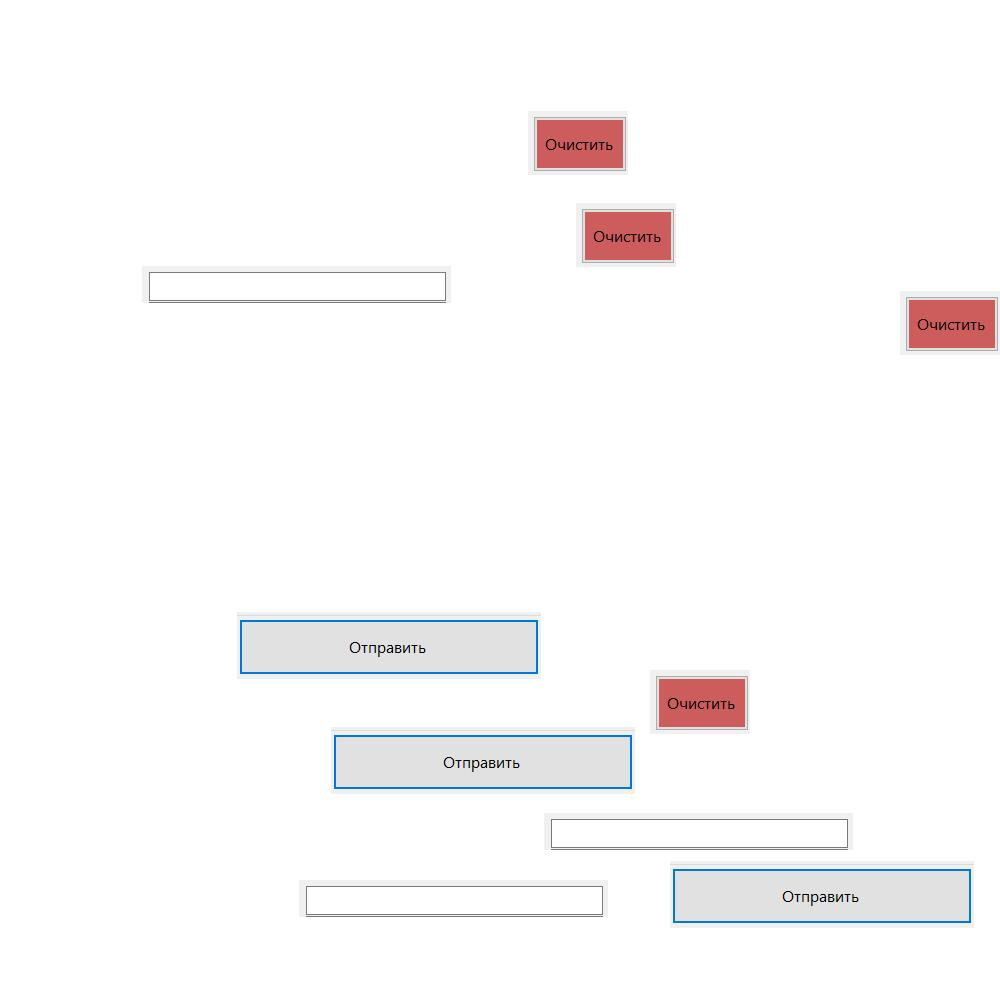Button: (237, 612, 541, 679), (331, 727, 635, 794), (670, 861, 974, 928), (650, 670, 750, 734), (576, 203, 676, 267), (900, 291, 1000, 355), (528, 111, 628, 175)
EditText-: (299, 880, 608, 917), (142, 266, 451, 303), (544, 813, 853, 850)
